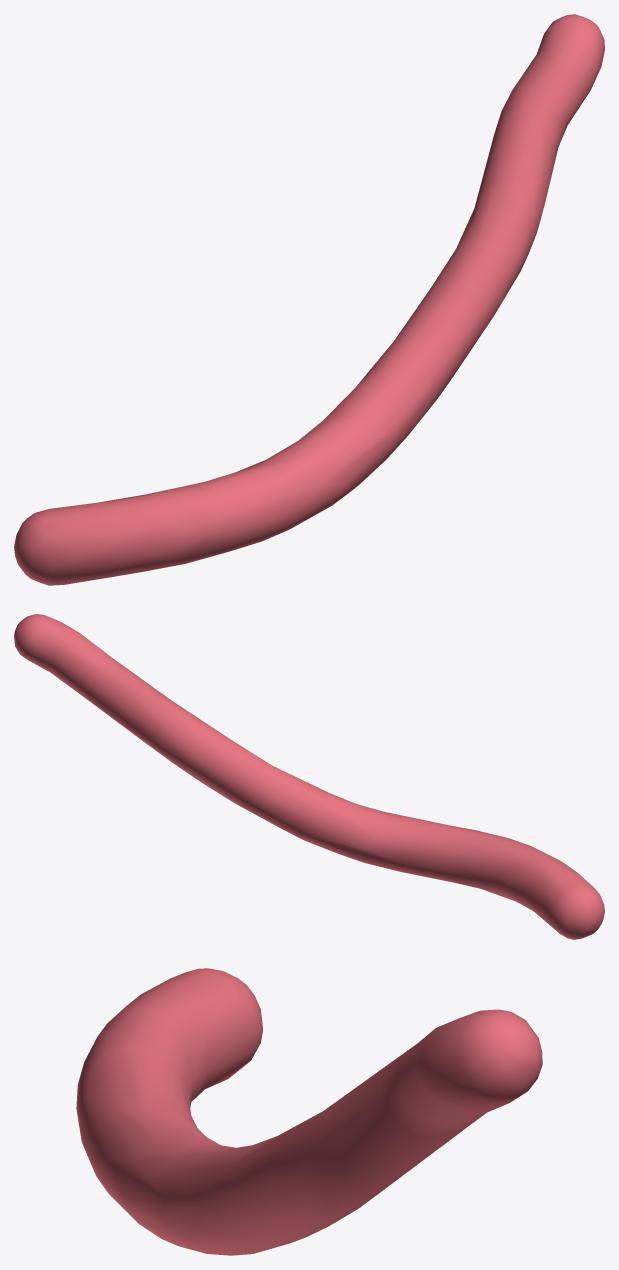
Rendered from fma50367_fj1692m.glb.
The picture shows the model from 3 angles, top to bottom: view 1: azimuth 30°, elevation 25°; view 2: azimuth 150°, elevation 25°; view 3: azimuth 270°, elevation 25°; orthographic projection. The views are drawn at different scales.
Parts seen in each view (by area): view 1: FMA50367_FJ1692M; view 2: FMA50367_FJ1692M; view 3: FMA50367_FJ1692M.
Part boxes in pixels (x1,y1,x2,y2): FMA50367_FJ1692M: [14, 14, 604, 585]; FMA50367_FJ1692M: [14, 614, 604, 939]; FMA50367_FJ1692M: [76, 968, 542, 1255].
Bounding box in the file's own units: 0.0312 × 0.0151 × 0.0123.
